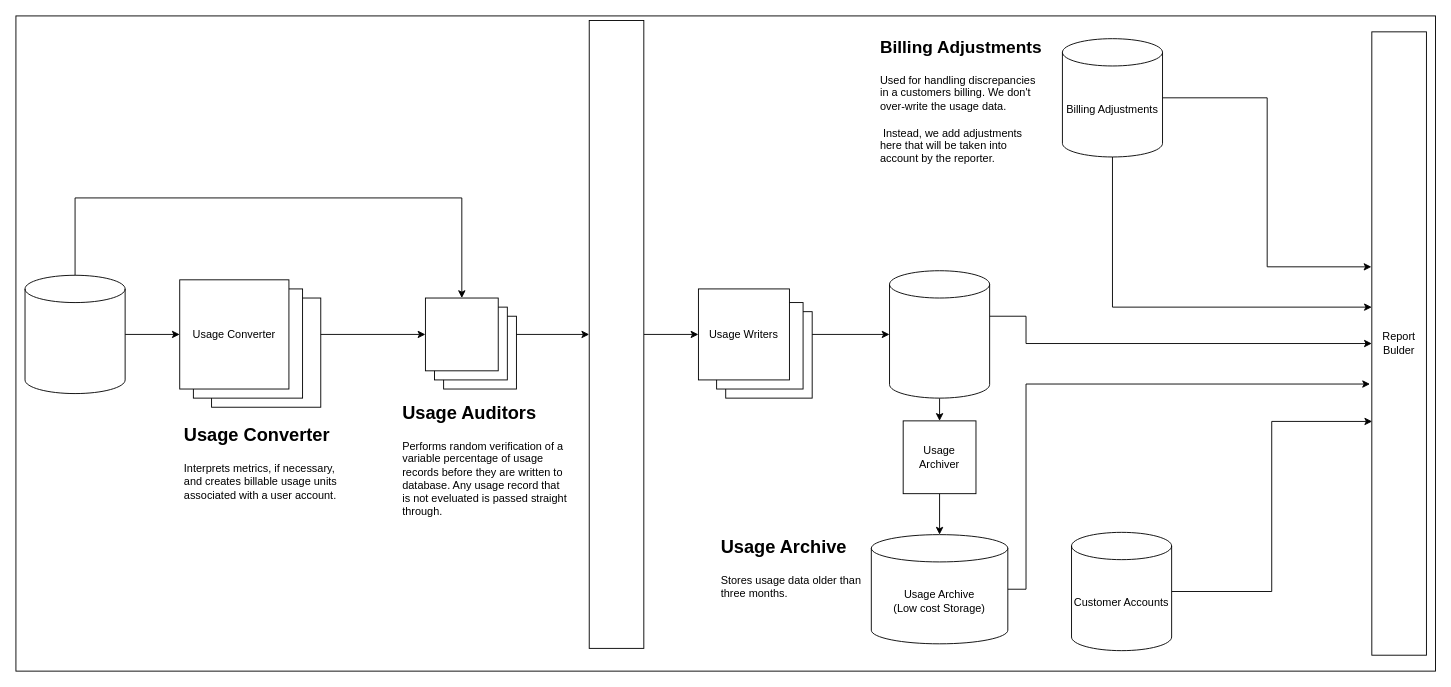
This 1451x687 diagram has some shape labels left out. The shapes that lost their labels are listed below. From the top down, each one's centre as x and y in pixels, then its label:
the point at 74,334: Metrics Store
the point at 461,334: Usage Auditors
the point at 616,334: Message Queue
the point at 939,334: Usage Database
